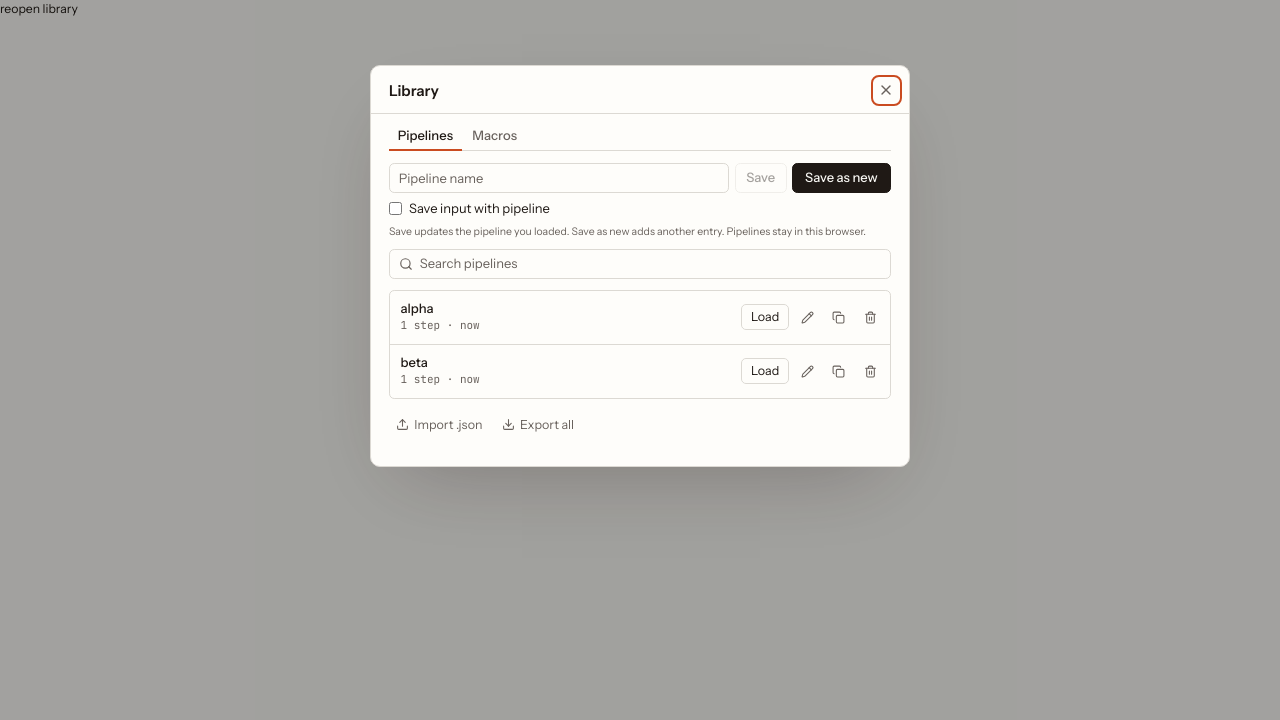
LibraryDialog › filters entries by the search box
Type "alp" into the field labelled "Search pipelines" at (651, 264), box [420,255,881,273]
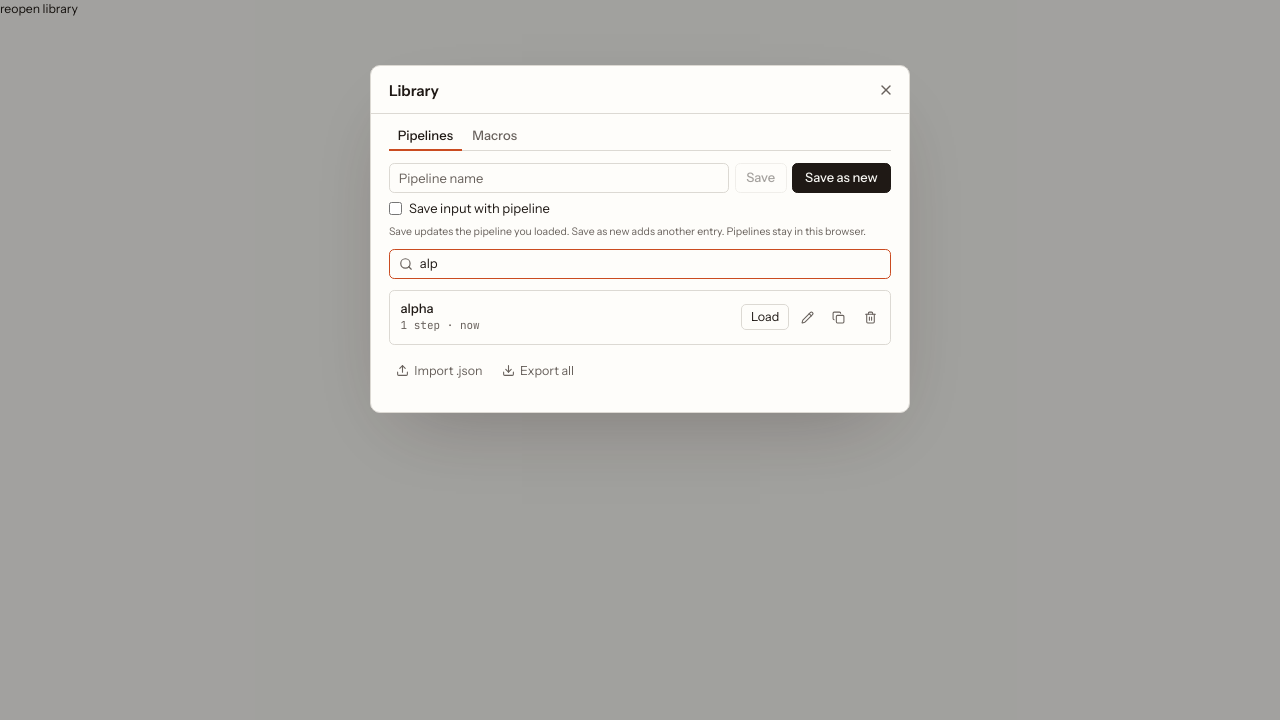
expect the text "alpha" is shown: met, box [400,300,434,316]
expect the text "beta" is gone: met
